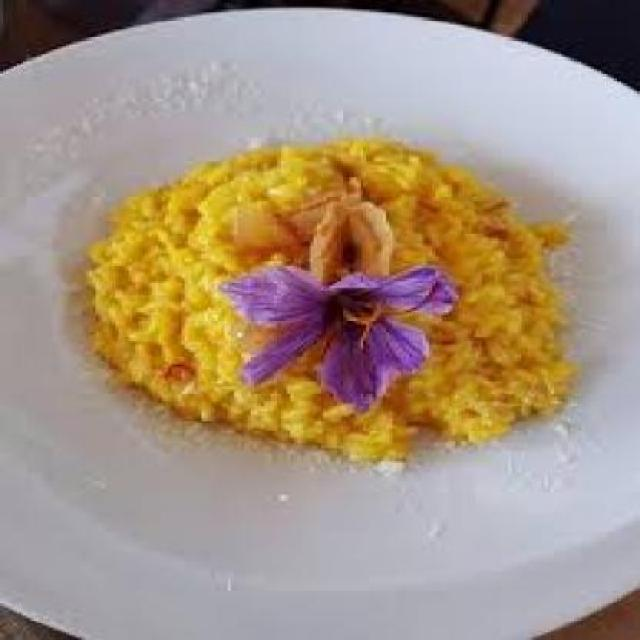Flower: (220, 266, 462, 414)
stigma: (382, 275, 444, 323)
